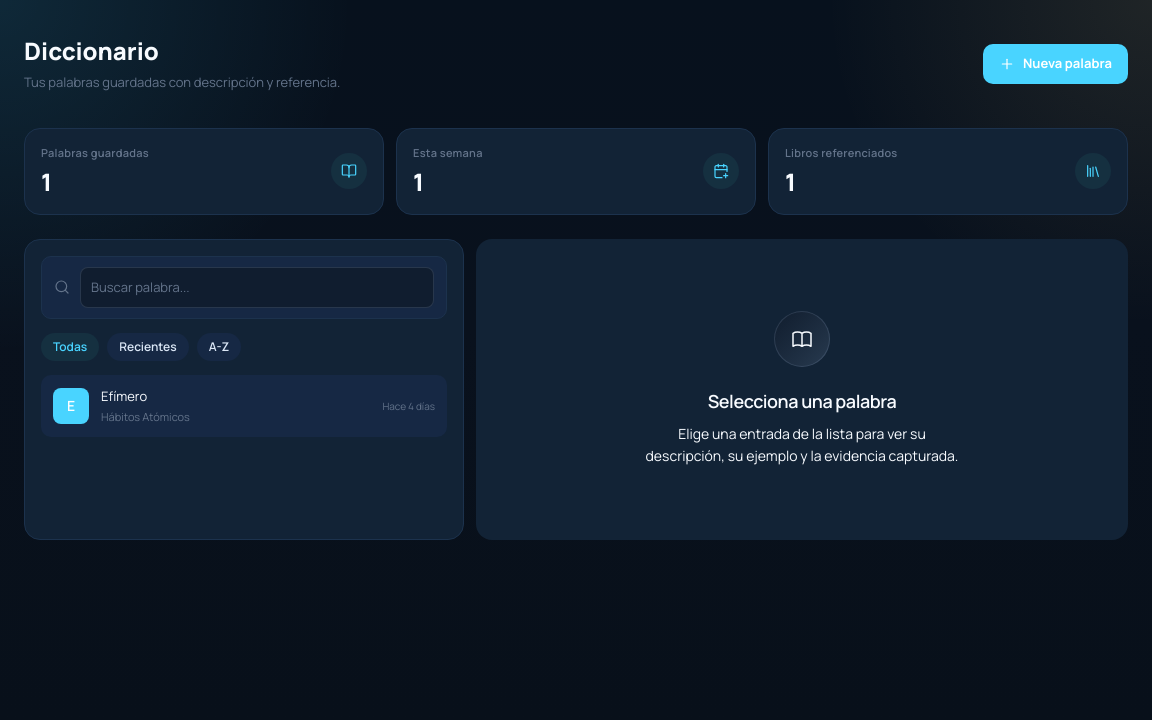
Test case: DictionaryView detail panel (4C) › shows the no-selection state until a row is selected
The image size is (1152, 720).
Check: the element with test id "dictionary-detail-no-selection" is shown, box 646,310 -> 958,465
Check: the heading "Selecciona una palabra" is shown, box 708,386 -> 896,414
Click the button with test id "dictionary-row" at (71, 406), box 41,375 -> 447,437
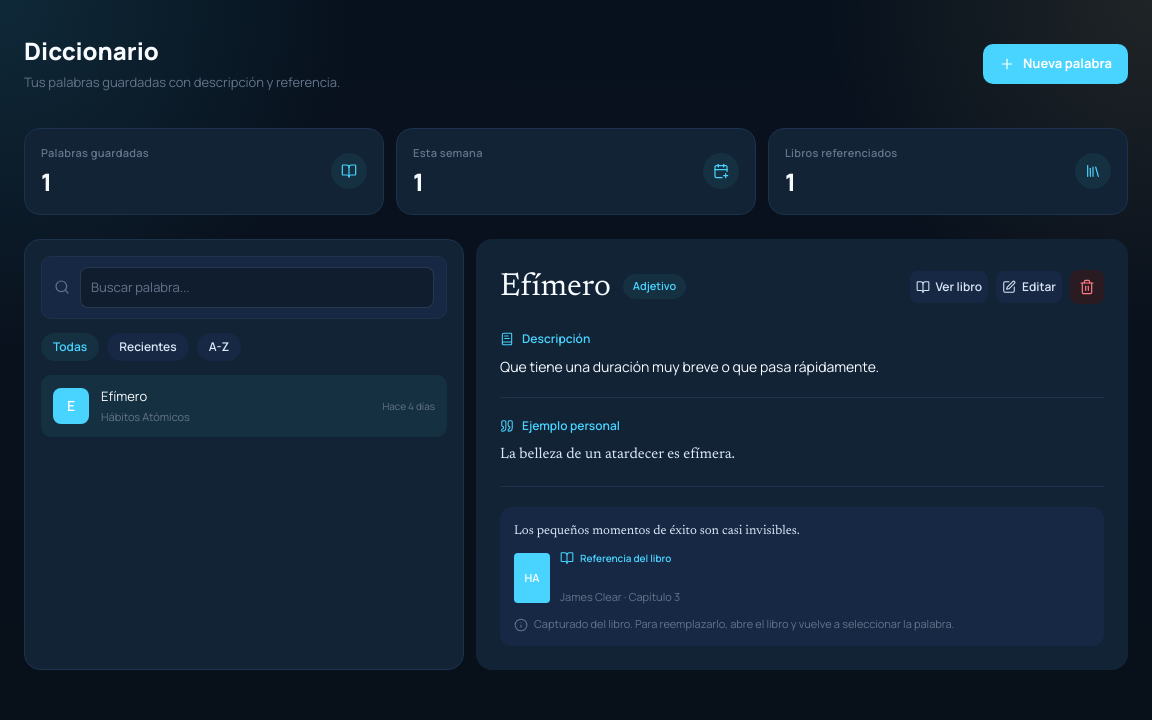
Check: the element with test id "dictionary-detail-no-selection" is gone
Check: the heading with test id "dictionary-detail-term" reads "Efímero", box 500,270 -> 611,302
